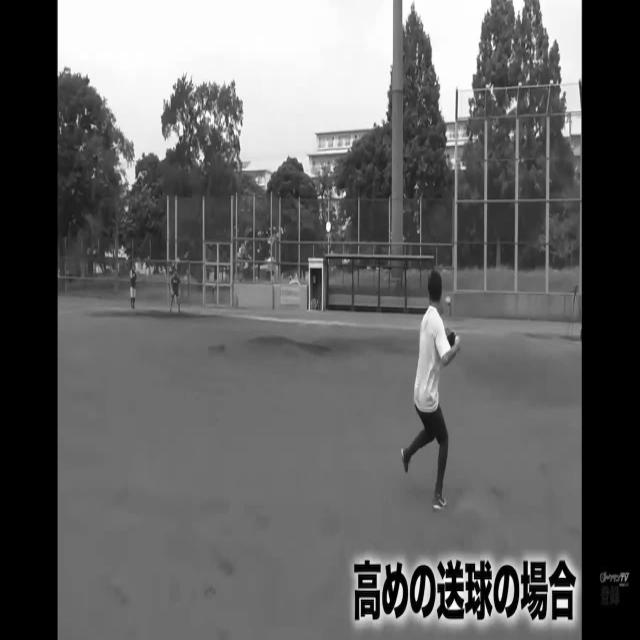baseball: (454, 332, 462, 352)
baseball_glove: (444, 326, 455, 349)
shoe: (432, 492, 451, 514), (401, 448, 411, 478)
